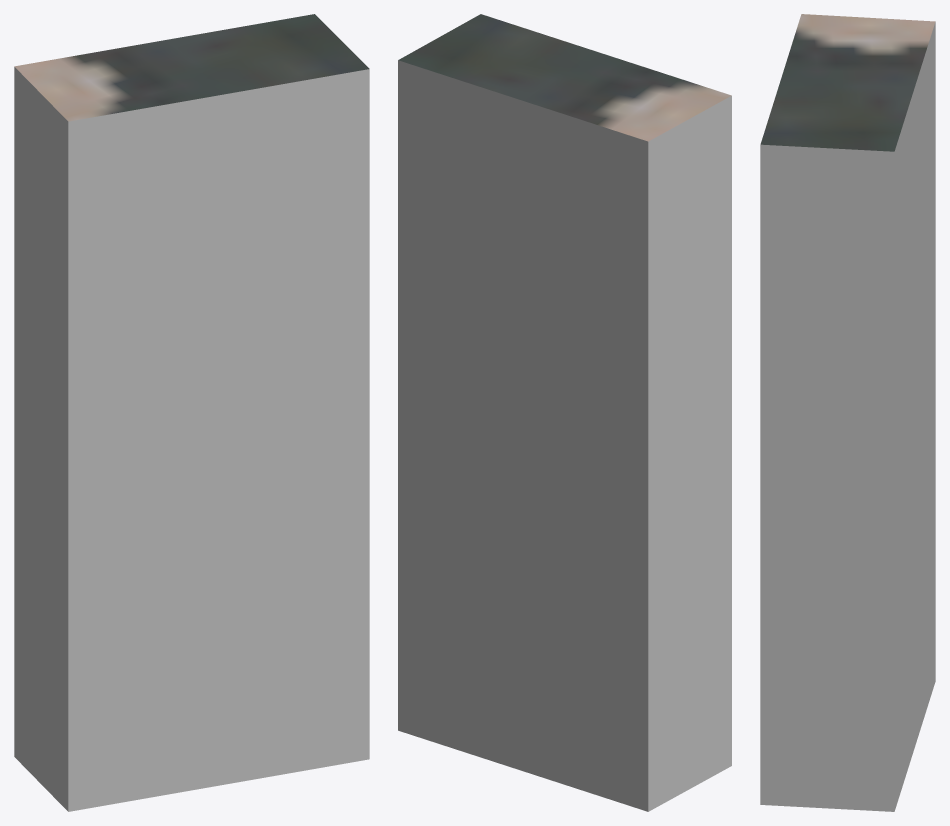
The model's file is DEBW_0010007Tx58.gltf.
The picture shows the model from 3 angles, left to right: view 1: azimuth 30°, elevation 25°; view 2: azimuth 150°, elevation 25°; view 3: azimuth 270°, elevation 25°; orthographic projection. The views are drawn at different scales.
Visible parts, largest first — view 1: Z_UP; view 2: Z_UP; view 3: Z_UP.
Boxes of the visible parts, x1,y1,x2,y2 form: Z_UP: (14,14,369,811); Z_UP: (398,14,731,811); Z_UP: (760,14,935,811).
Size of the model in its own units: 3.5 by 7.82 by 1.88.
2 materials, 1 textured.
